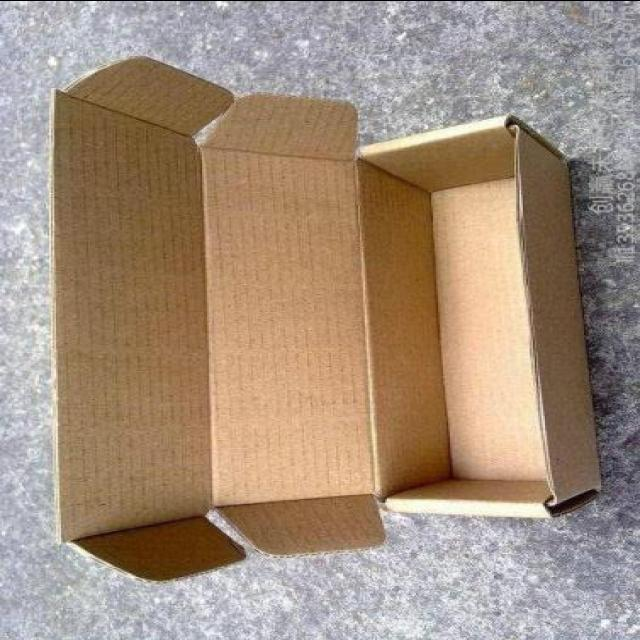-Recyclables - paper box-: (56, 55, 606, 578)
